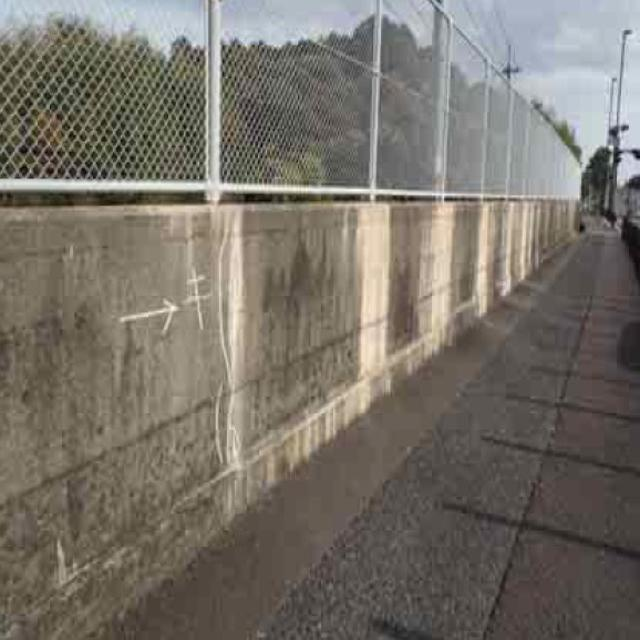freelime: (200, 216, 257, 487), (432, 203, 538, 328), (347, 196, 403, 413)
